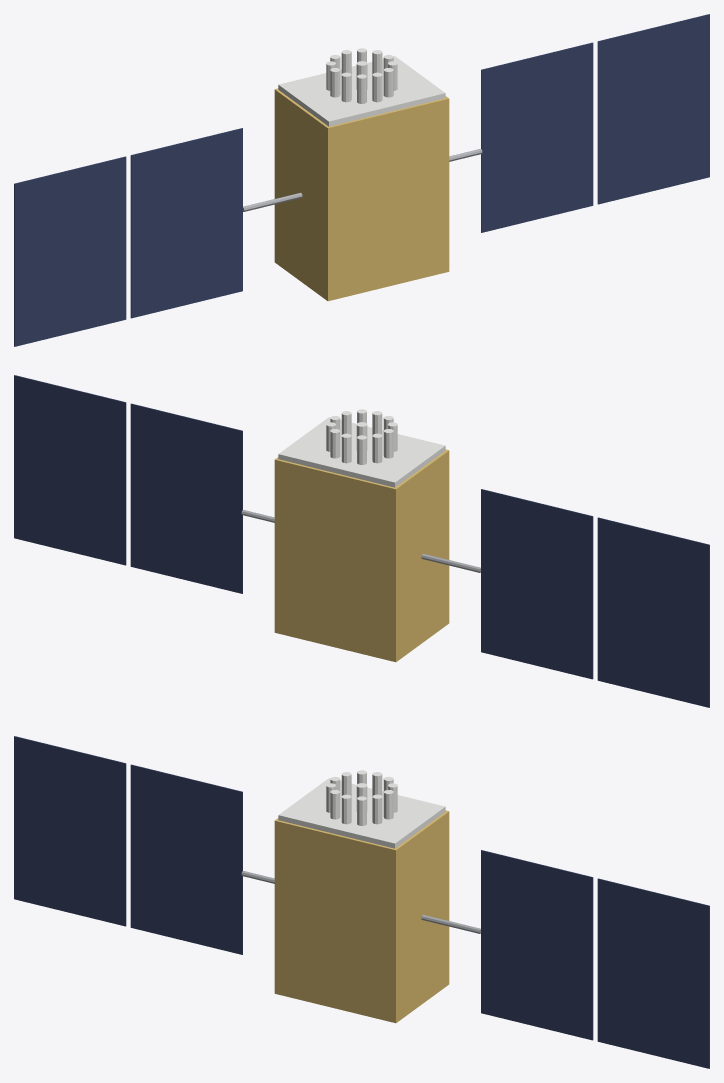
Rendered from gps.glb.
3 renders of one model, top to bottom at view 1: azimuth 30°, elevation 25°; view 2: azimuth 150°, elevation 25°; view 3: azimuth 330°, elevation 25°, orthographic.
Parts seen in each view (by area): view 1: gps; view 2: gps; view 3: gps.
Boxes of the visible parts, x1,y1,x2,y2 form: gps: (14,14,709,346); gps: (14,375,709,707); gps: (14,736,709,1068).
Size of the model in its own units: 2 by 0.5594 by 0.2657.
